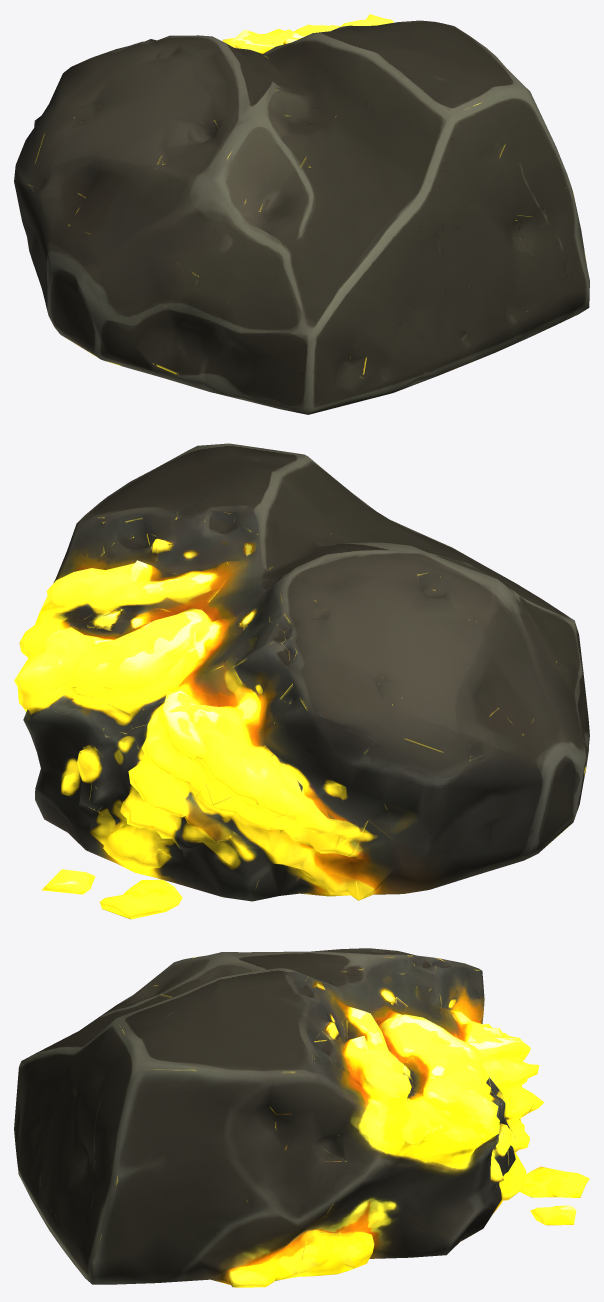
The picture shows the model from 3 angles, top to bottom: view 1: azimuth 30°, elevation 25°; view 2: azimuth 150°, elevation 25°; view 3: azimuth 270°, elevation 25°; orthographic projection. The views are drawn at different scales.
Visible parts, largest first — view 1: Mesh_0; view 2: Mesh_0; view 3: Mesh_0.
Part boxes in pixels (<box>): Mesh_0: <box>14,14,589,414</box>; Mesh_0: <box>14,443,589,919</box>; Mesh_0: <box>14,948,589,1287</box>.
Bounding box in the file's own units: 1.65 × 0.8638 × 1.92.
1 material, 1 textured.
